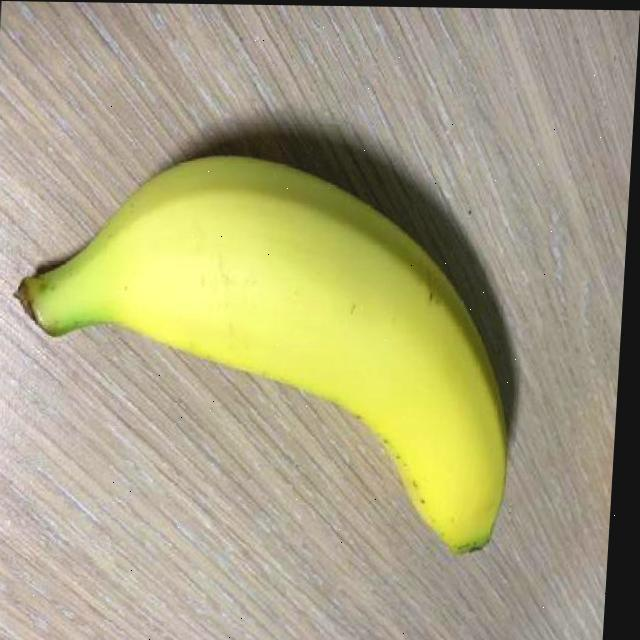banana: (0, 132, 535, 571)
